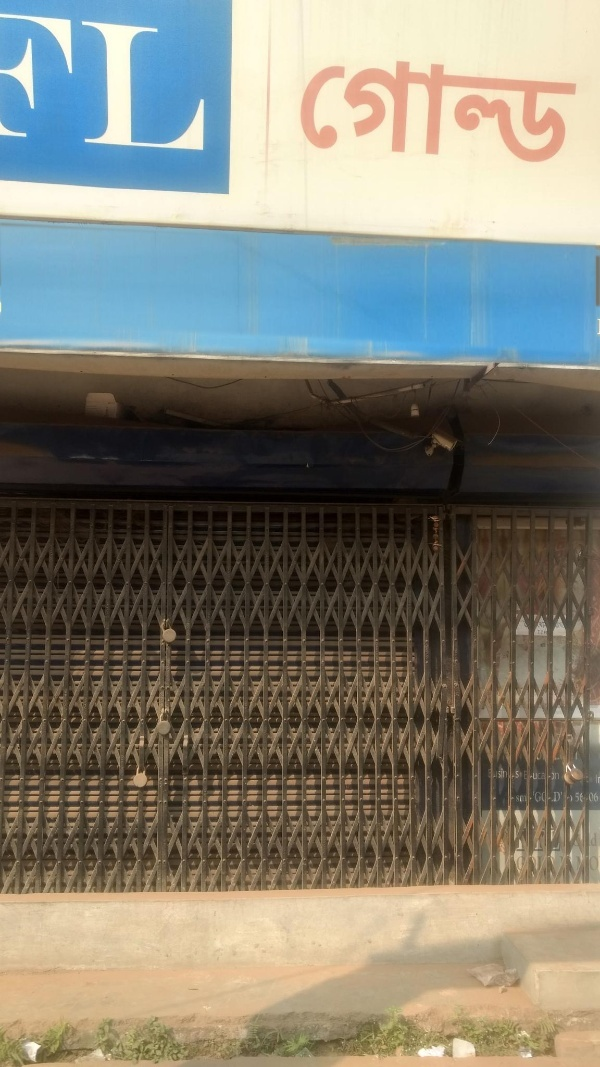text: (81, 15, 96, 153), (97, 15, 112, 153), (113, 15, 128, 153), (129, 15, 144, 153), (145, 15, 160, 153), (161, 15, 176, 153), (177, 15, 192, 153), (193, 15, 208, 153), (1, 11, 16, 144), (17, 11, 32, 144), (33, 11, 48, 144), (49, 11, 64, 144), (65, 11, 79, 144), (305, 62, 320, 163), (321, 62, 336, 163), (337, 62, 352, 163), (353, 62, 368, 163), (369, 62, 384, 163), (385, 62, 400, 163), (401, 62, 416, 163), (417, 62, 432, 163), (433, 62, 448, 163), (449, 62, 464, 163), (465, 62, 480, 163), (481, 62, 496, 163), (497, 62, 512, 163), (513, 62, 528, 163), (529, 62, 544, 163), (545, 62, 560, 163), (561, 62, 576, 163), (497, 727, 512, 806), (513, 727, 528, 806), (529, 727, 544, 806), (545, 727, 560, 806), (561, 727, 576, 806), (577, 727, 592, 806), (72, 15, 80, 153), (487, 727, 496, 806), (593, 727, 599, 806), (301, 62, 304, 163), (577, 62, 579, 163)
